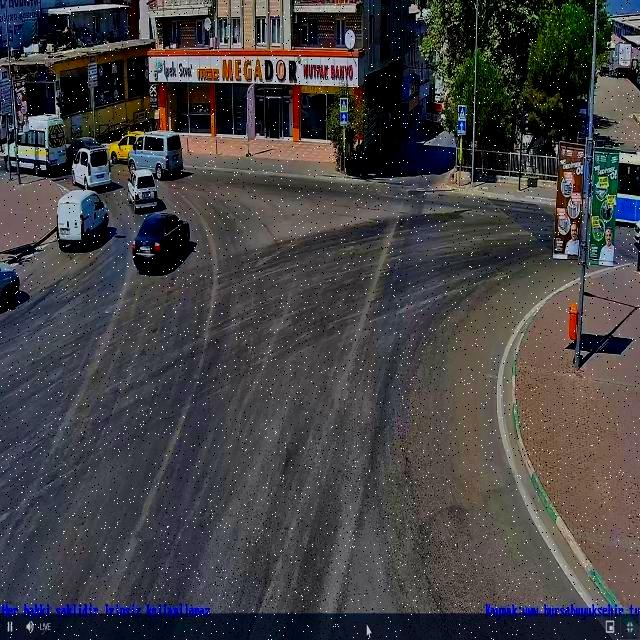Car: (132, 210, 190, 273), (126, 134, 184, 180), (71, 146, 110, 187), (126, 168, 158, 212)
Truck: (4, 113, 68, 172)
Van: (55, 190, 110, 249)
